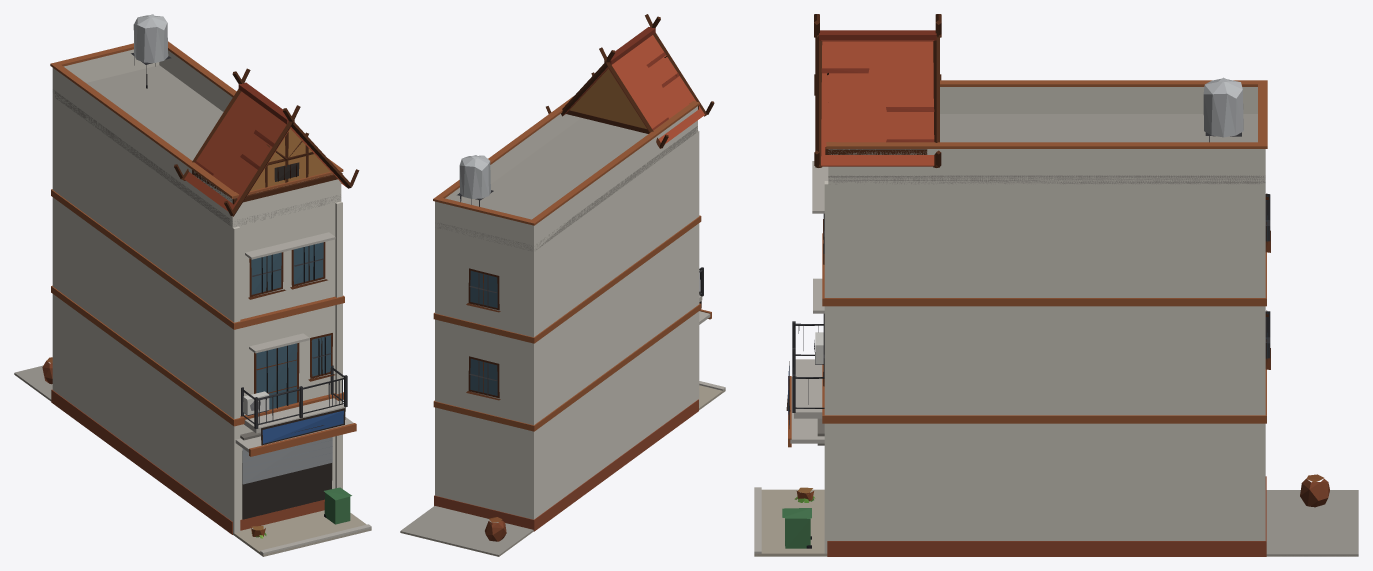
The model's file is bay2_mid.glb.
The picture shows the model from 3 angles, left to right: view 1: azimuth 30°, elevation 25°; view 2: azimuth 150°, elevation 25°; view 3: azimuth 270°, elevation 25°; orthographic projection. The views are drawn at different scales.
Parts seen in each view (by area): view 1: body, windows; view 2: body, windows; view 3: body.
Boxes of the visible parts, x1,y1,x2,y2 form: body: [14, 14, 371, 556]; windows: [242, 162, 332, 519]; body: [400, 14, 725, 556]; windows: [470, 270, 497, 395]; body: [754, 14, 1358, 556].
Bounding box in the file's own units: 4.98 × 15.02 × 15.9.
